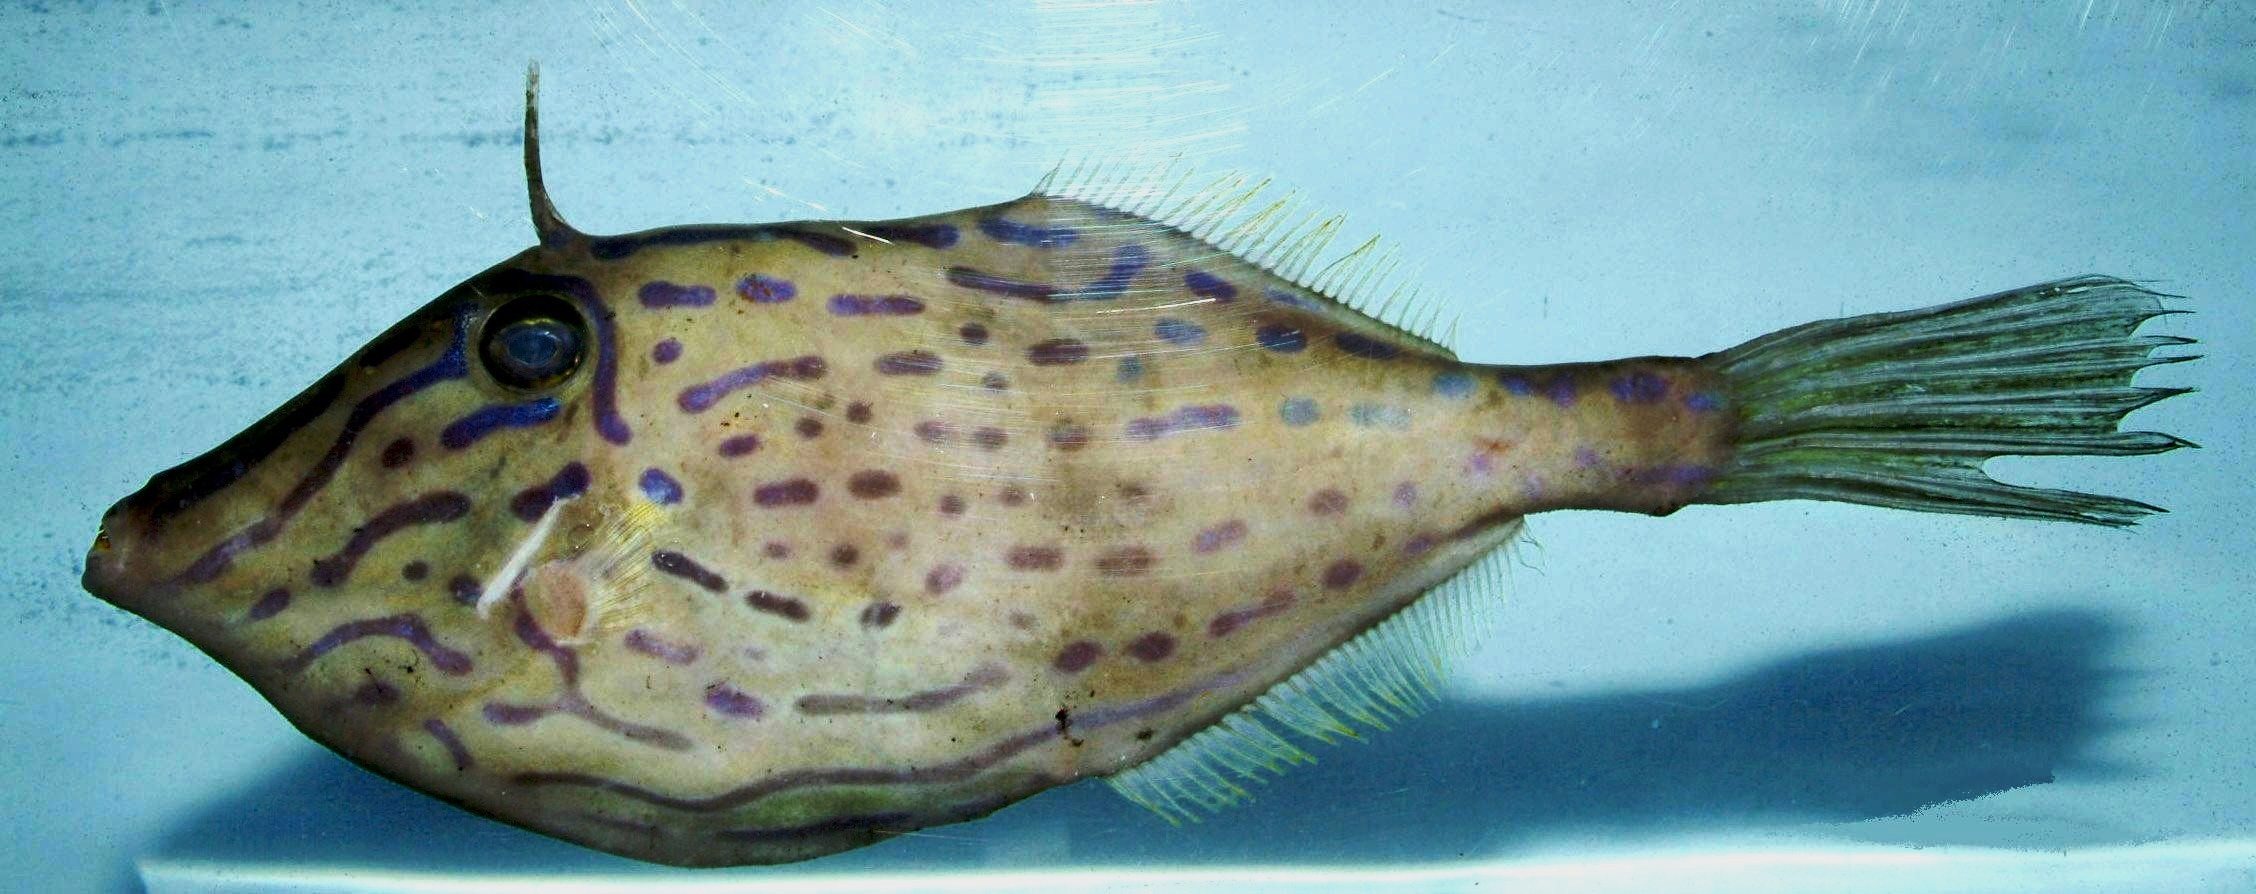Aluterus_scriptus: (65, 65, 2236, 859)
